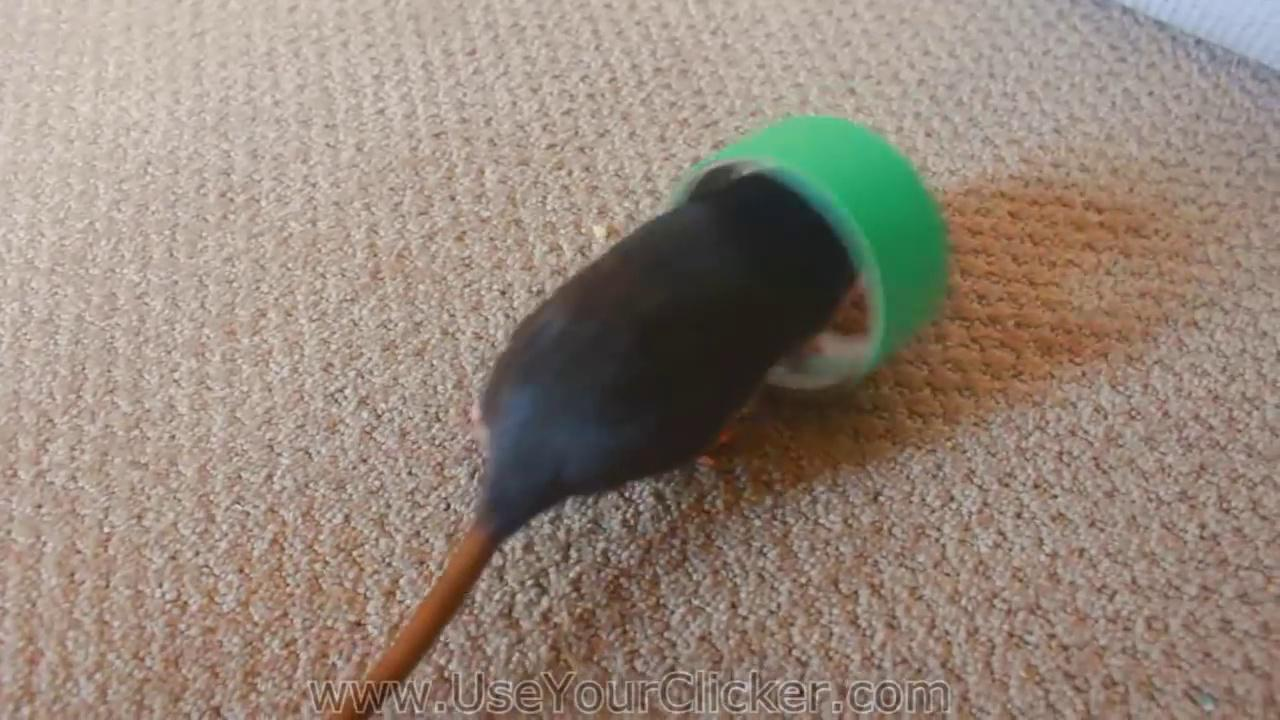rat: (328, 170, 858, 720)
